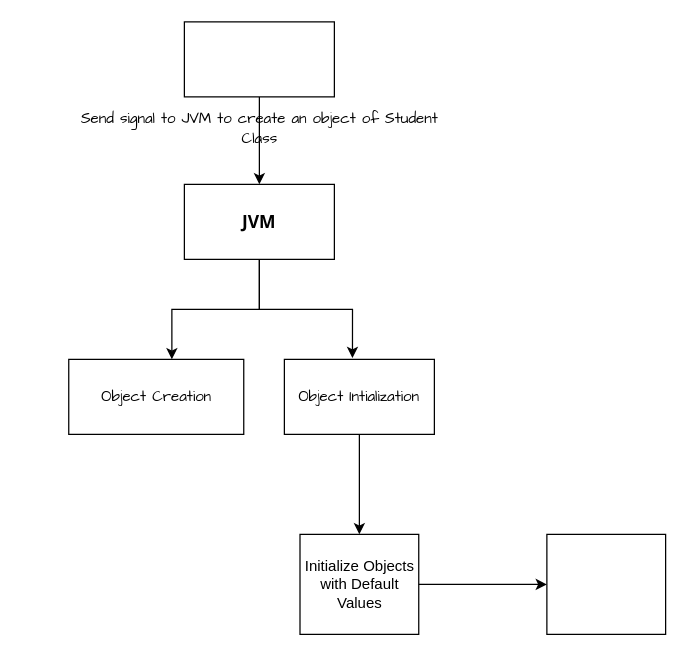
This 688x656 diagram has some shape labels left out. The shapes that lost their labels are listed below. From the top down, each one's box as (x1, y1, x2, y2) in pixels, then its label:
(183, 21, 334, 97): Student s1 = new Student()
(546, 533, 666, 634): Constructor
